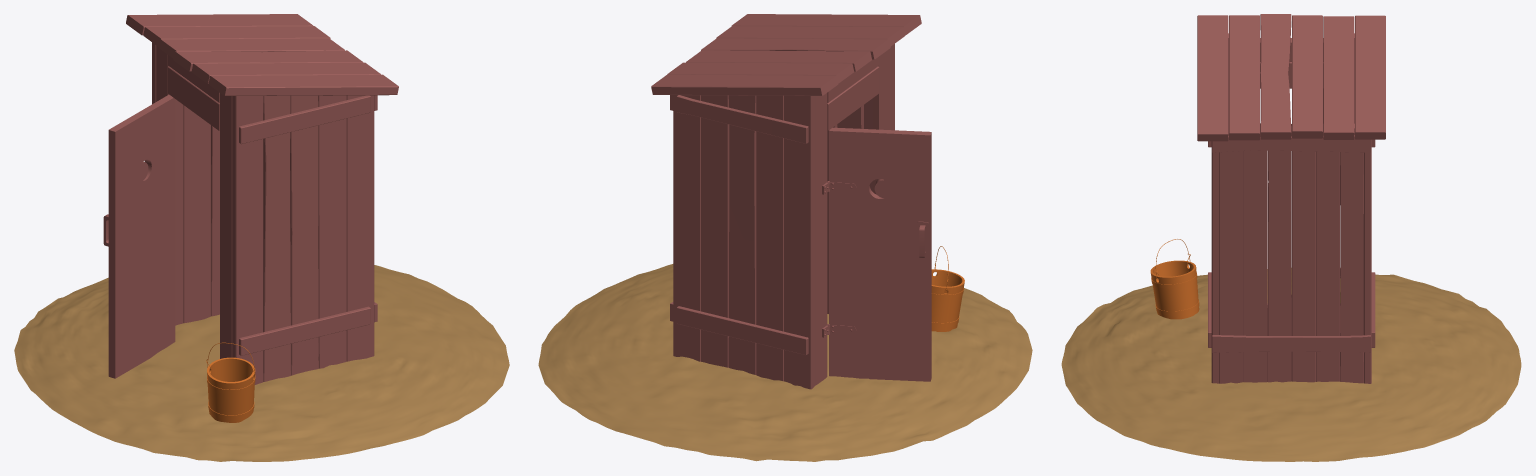
File: Toilet.fbx
3 views of the same model, side by side, from view 1: azimuth 30°, elevation 25°; view 2: azimuth 150°, elevation 25°; view 3: azimuth 270°, elevation 25° (orthographic). The views are drawn at different scales.
Visible parts, largest first — view 1: Toilet, Base, Door, Bucket; view 2: Toilet, Base, Door, Bucket; view 3: Toilet, Base, Bucket.
Part boxes in pixels (x1,y1,x2,y2): Toilet: (126,14,398,384); Base: (14,265,509,461); Door: (103,95,175,378); Bucket: (206,342,255,422); Toilet: (651,14,921,389); Base: (538,264,1032,461); Door: (827,127,931,381); Bucket: (931,246,964,331); Toilet: (1197,14,1385,383); Base: (1061,268,1521,461); Bucket: (1150,239,1199,319).
Bounding box in the file's own units: 611 × 457 × 611.
